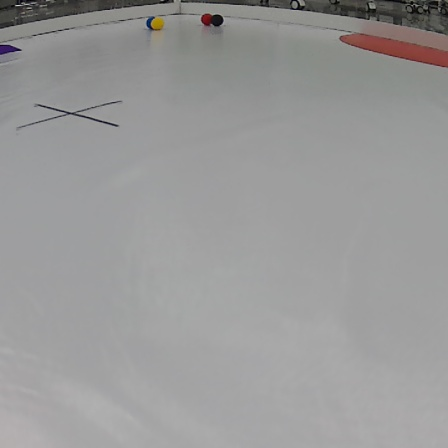black: (209, 12, 228, 28)
blue: (140, 14, 156, 27)
red: (198, 12, 215, 25)
red_aim: (0, 35, 24, 56)
red_base: (332, 32, 448, 70)
yellow: (149, 15, 167, 31)
